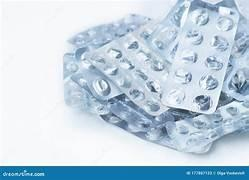pill_Strip: (162, 1, 238, 113), (101, 96, 248, 152), (101, 97, 248, 152), (100, 100, 248, 152), (63, 14, 150, 88), (63, 14, 151, 78), (89, 42, 166, 115), (100, 95, 180, 149), (118, 34, 169, 114), (167, 101, 248, 151), (176, 102, 248, 152), (133, 0, 190, 61), (108, 97, 175, 148), (64, 48, 108, 116), (68, 14, 150, 48), (100, 113, 176, 149), (64, 53, 120, 99), (107, 94, 174, 131), (118, 34, 170, 80), (222, 17, 248, 100), (131, 28, 169, 83), (107, 95, 154, 132), (71, 66, 120, 100), (64, 78, 108, 114), (145, 1, 188, 35), (223, 60, 248, 100), (64, 78, 90, 110), (157, 136, 199, 151), (63, 53, 80, 79)
